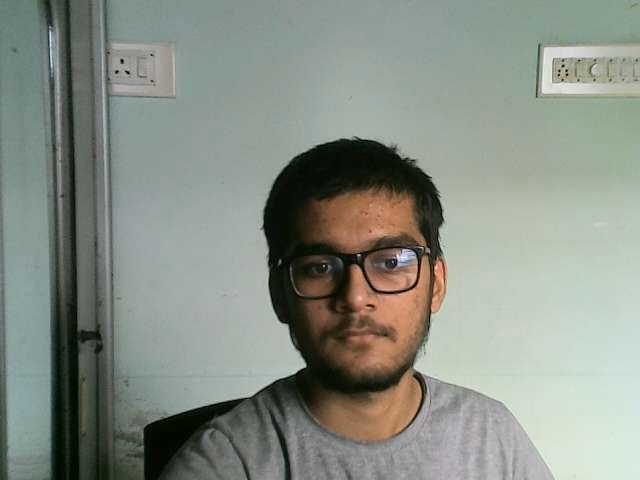face: (281, 187, 432, 392)
